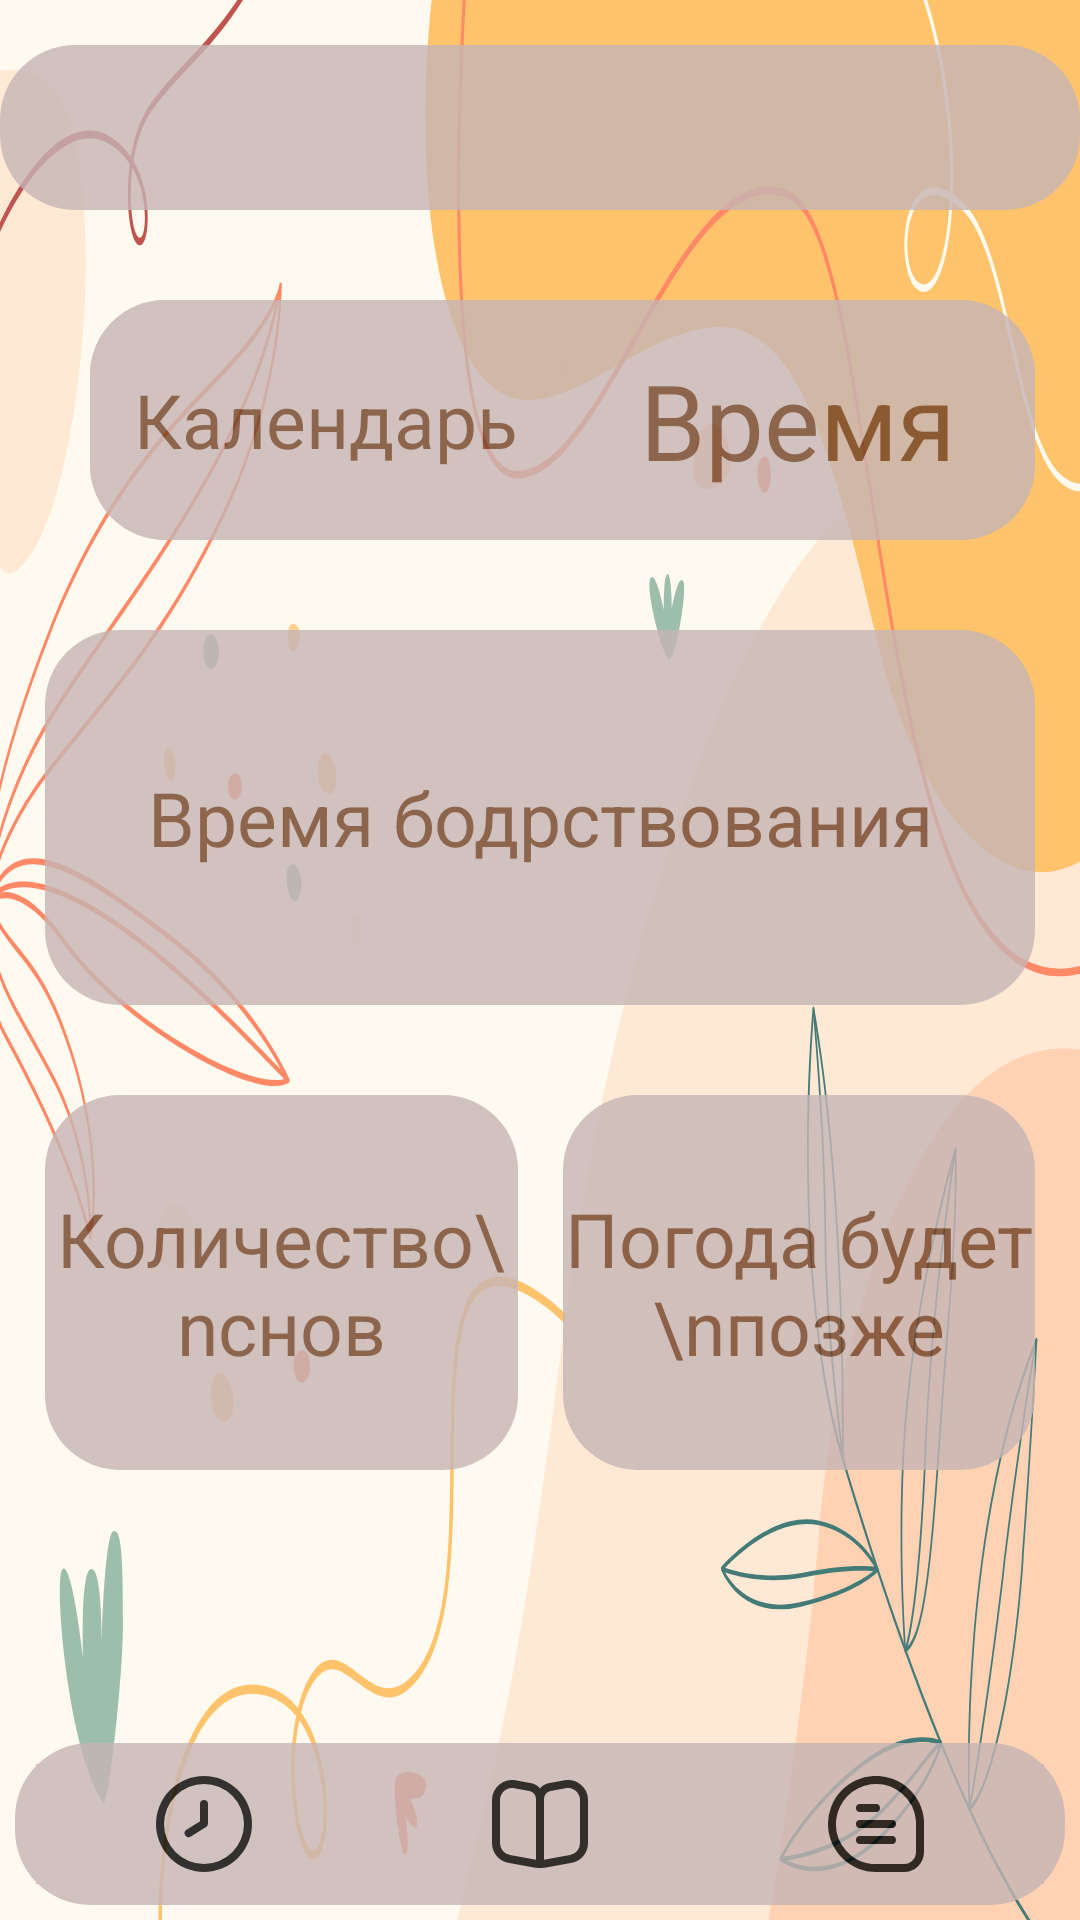

Named icons in this screenshot (1080px x 1920px) and their centers, (x,y):
diaryicon: (540,1824)
